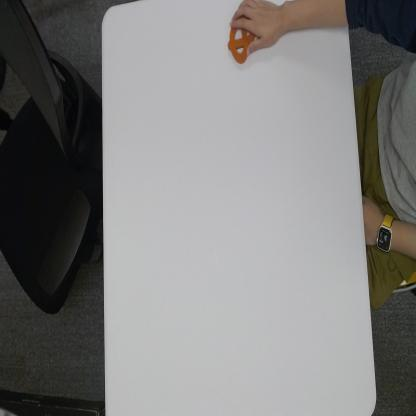Arm: (285, 0, 416, 56)
Hand: (230, 0, 285, 58)
Pretzel: (229, 25, 255, 64)
